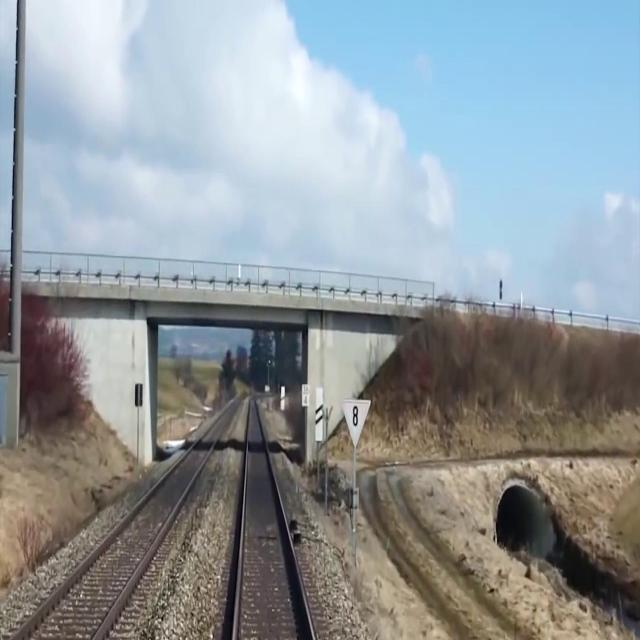rail-track: (16, 409, 230, 639), (235, 399, 311, 639)
